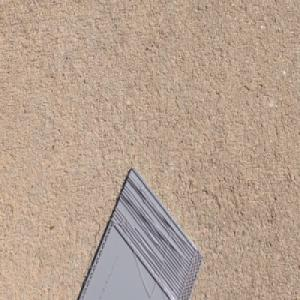PlasticPart: (77, 166, 205, 300)
